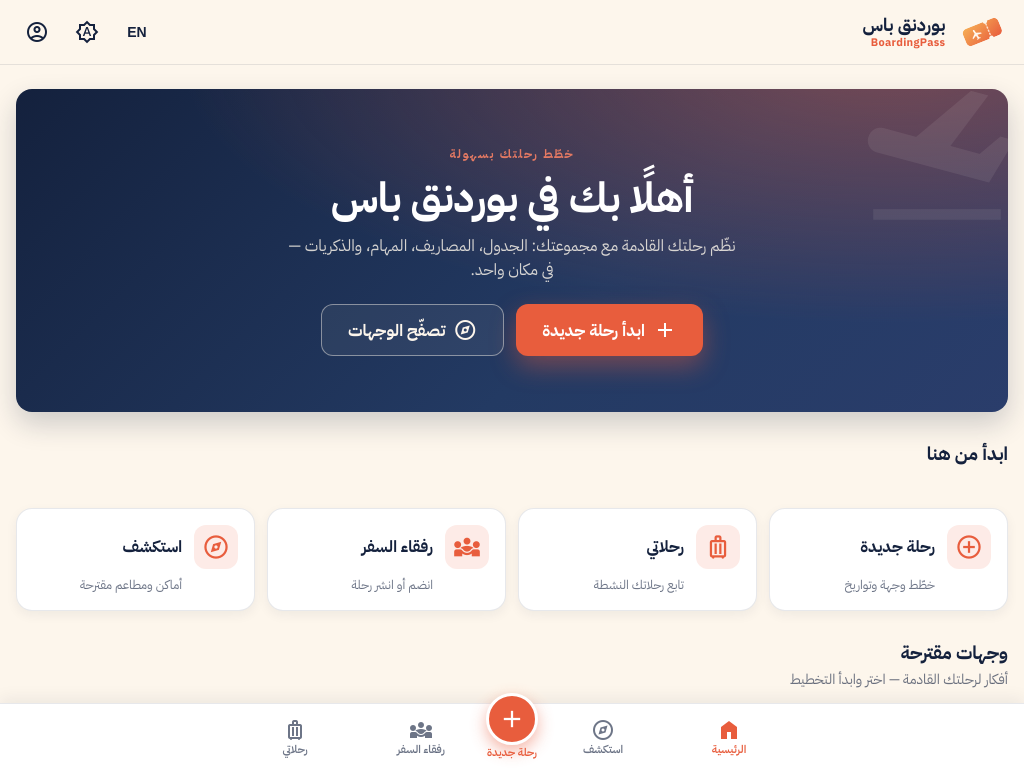
Test: US-001 Authentication › profile action opens the auth modal (unauthenticated)
The image size is (1024, 768).
Click the button named "الحساب / تسجيل الدخول": (37, 32) [16,11,58,53]
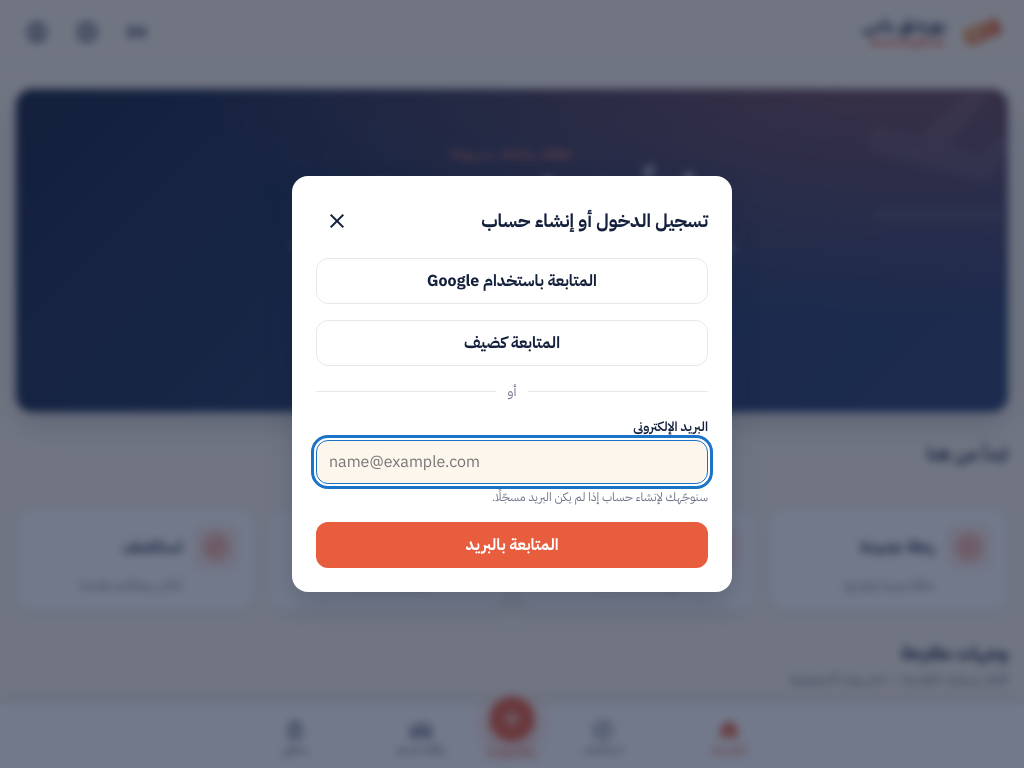
Expected: the heading "تسجيل الدخول أو إنشاء حساب" is shown, [481,207,708,235]
